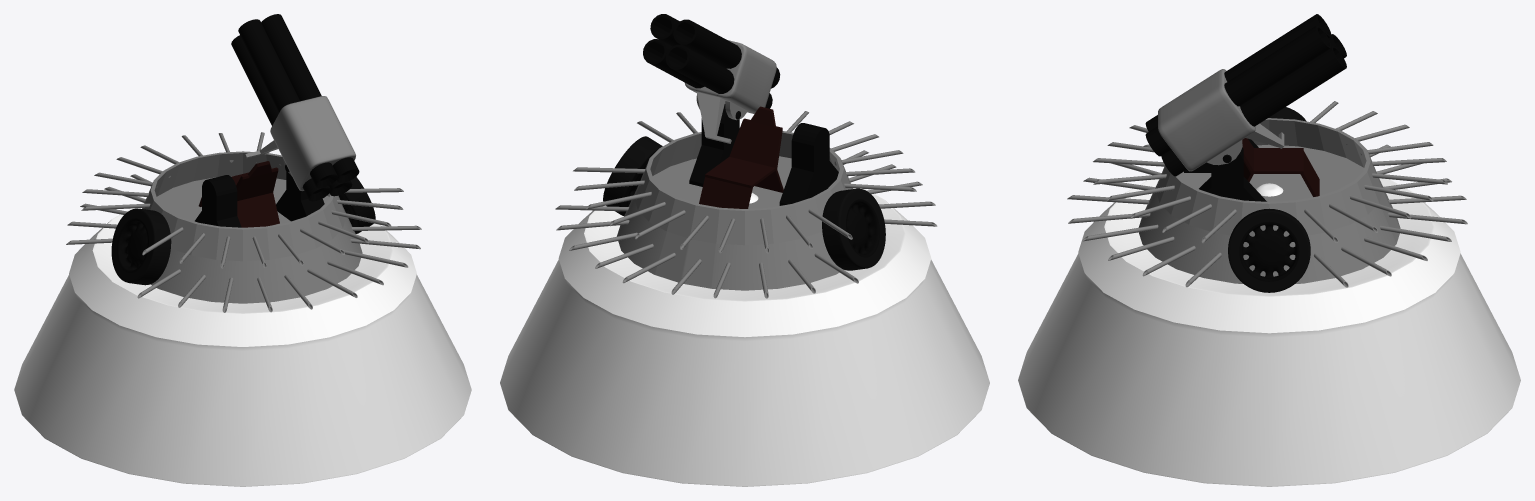
The model's file is Tower_2.FBX.
The picture shows the model from 3 angles, left to right: view 1: azimuth 30°, elevation 25°; view 2: azimuth 150°, elevation 25°; view 3: azimuth 270°, elevation 25°; orthographic projection. The views are drawn at different scales.
Parts seen in each view (by area): view 1: Cylinder019, Box004, Box005, Body016, Body015; view 2: Cylinder019, Box004, Box005, Body016, Body015; view 3: Cylinder019, Box004, Box005, Body015.
Boxes of the visible parts, left/top/right/bottom form: Cylinder019: left=14, top=203, right=471, bottom=486; Box004: left=66, top=132, right=421, bottom=312; Box005: left=231, top=14, right=359, bottom=201; Body016: left=111, top=208, right=171, bottom=285; Body015: left=338, top=176, right=375, bottom=233; Cylinder019: left=500, top=183, right=989, bottom=486; Box004: left=555, top=104, right=937, bottom=298; Box005: left=643, top=14, right=780, bottom=143; Body016: left=822, top=188, right=885, bottom=270; Body015: left=603, top=136, right=662, bottom=215; Cylinder019: left=1018, top=178, right=1520, bottom=486; Box004: left=1067, top=101, right=1467, bottom=287; Box005: left=1145, top=14, right=1346, bottom=176; Body015: left=1228, top=208, right=1310, bottom=292.
Size of the model in its own units: 357 by 299 by 357.
